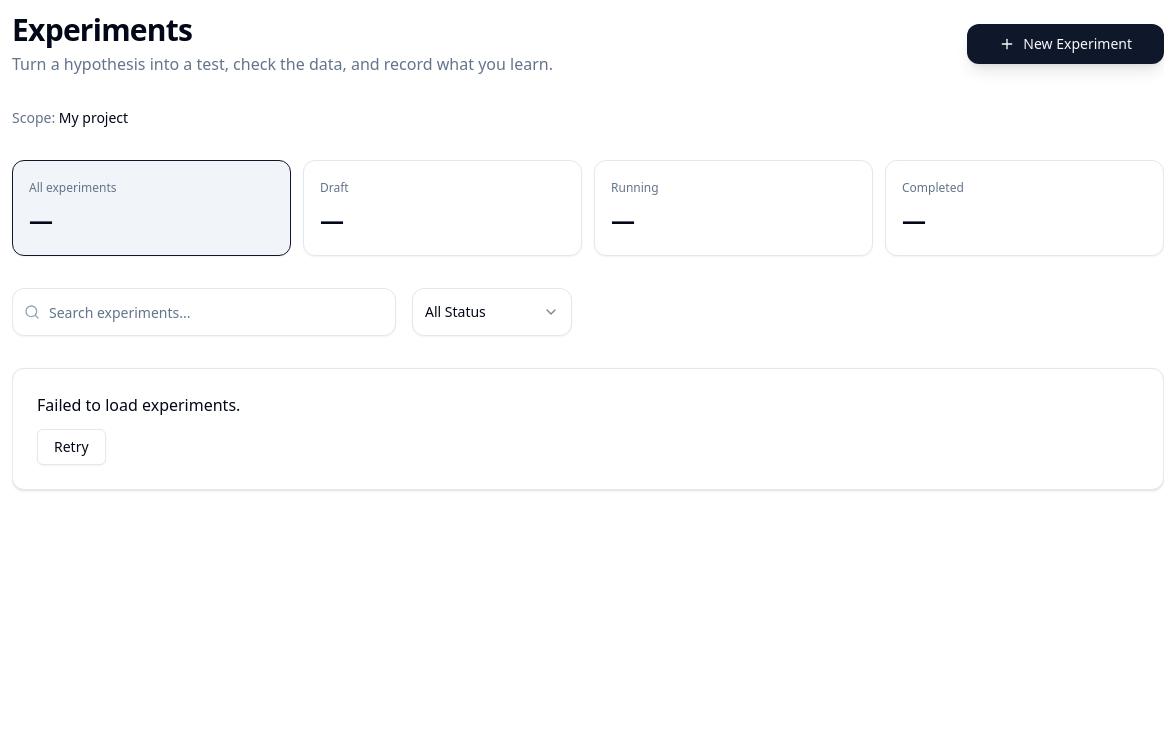
Test: shows retry instead of zero totals or an empty list on failure
Expected: the message shows "Failed to load experiments", [37,394,240,416]
Expected: the button "All experiments —" is shown, [12,160,291,256]
Click the button "Retry".
click(71, 447)  # box [37,429,106,465]
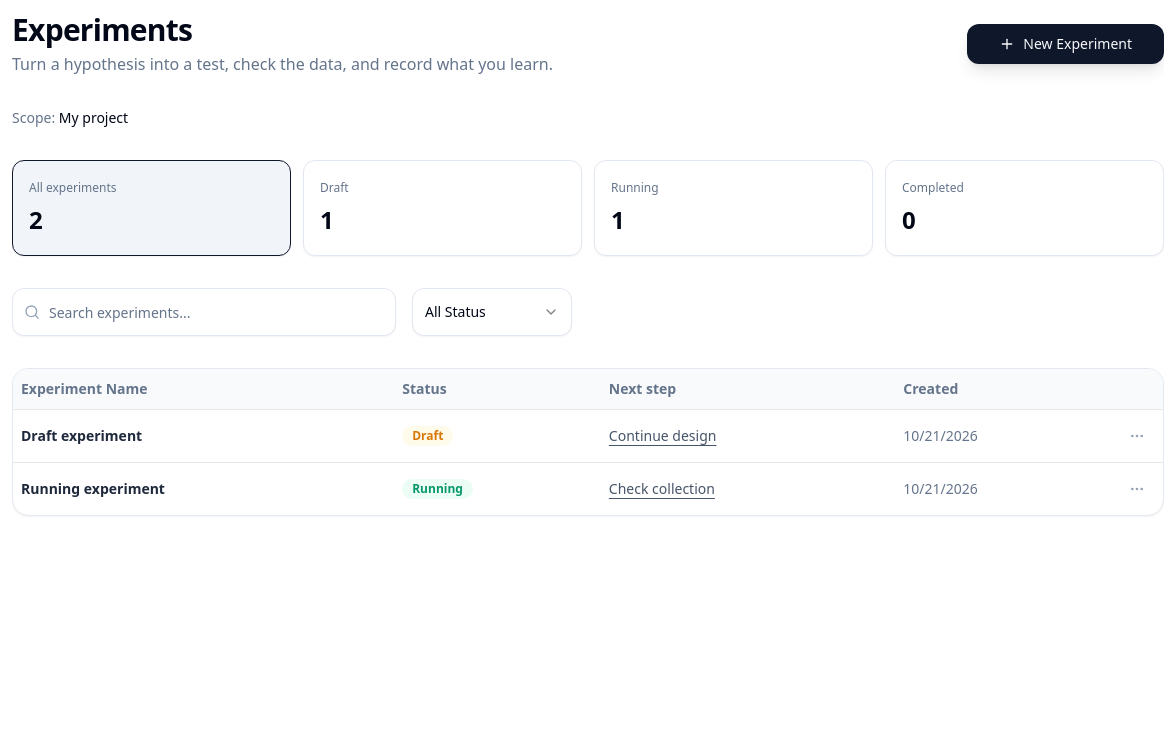
Expected: the link "Draft experiment" is shown, [21,426,142,444]
